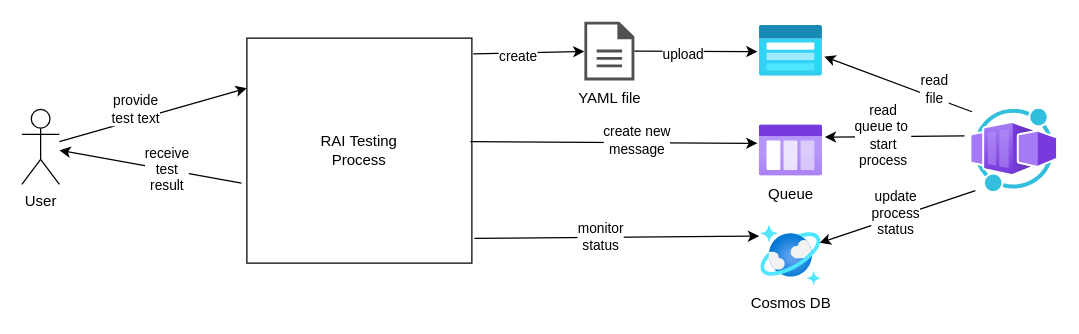
Some shapes in this 1079 by 334 pixel diagram are drawn without their labels. The shapes that lost their labels are listed below. From the top down, each one's centre as x and y in pixels, then its label:
the point at 790,50: Blob Storage
the point at 1013,150: Processor
